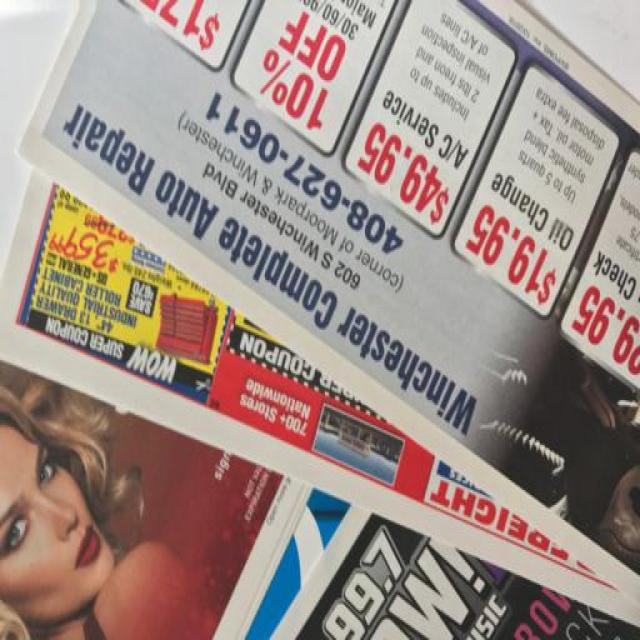paper: (2, 4, 640, 640)
